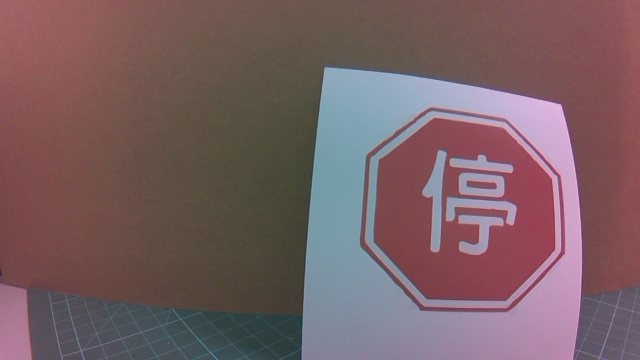stop: (365, 108, 551, 314)
